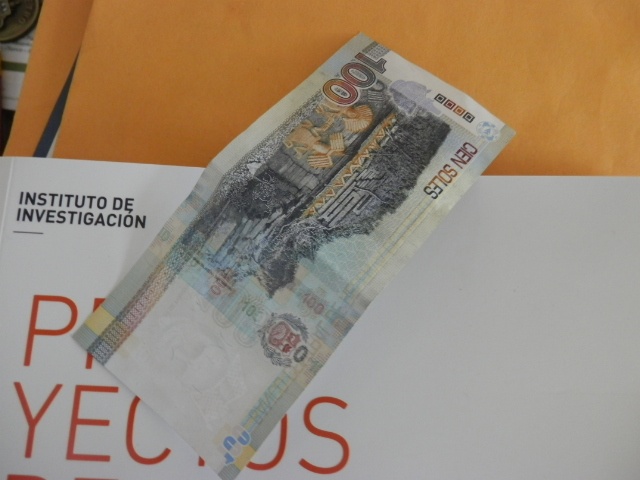B100: (93, 45, 506, 471)
